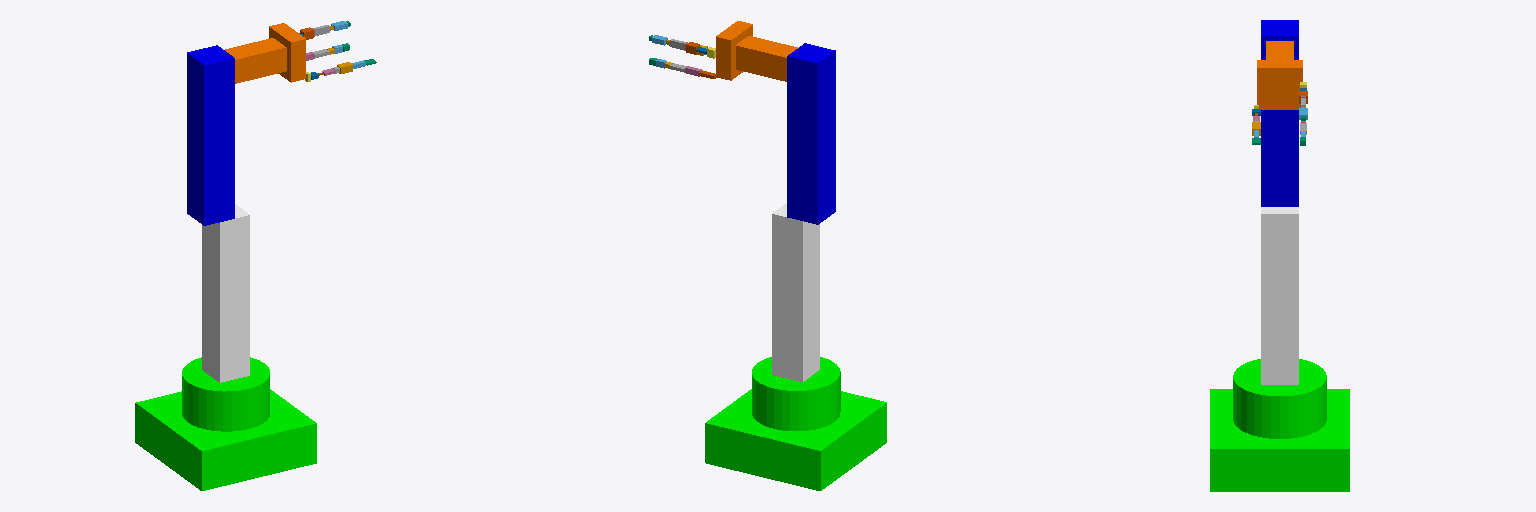
robot.urdf — robot:
<?xml version='1.0' encoding='utf-8'?>
<robot name="robot">
  <link name="base_link">
    <visual>
      <origin xyz="0 0 0.125" rpy="0 0 0" />
      <geometry>
        <box size="0.75 0.75 0.25" />
      </geometry>
      <material name="green" />
    </visual>
    <visual>
      <origin xyz="0 0 0.375" rpy="0 0 0" />
      <geometry>
        <cylinder length="0.25" radius="0.25" />
      </geometry>
      <material name="green">
        <color rgba="0 1 0 1" />
      </material>
    </visual>
    <collision>
      <geometry>
        <box size="0.75 0.75 0.5" />
      </geometry>
    </collision>
    <inertial>
      <mass value="0.5" />
      <inertia ixx="0.034" ixy="0.0" ixz="0.0" iyy="0.034" iyz="0.0" izz="0.034" />
    </inertial>
  </link>
  <link name="support_link">
    <visual>
      <origin xyz="0 0 0.5" rpy="0 0 0" />
      <geometry>
        <box size="0.2 0.2 1" />
      </geometry>
      <material name="white">
        <color rgba="1 1 1 1" />
      </material>
    </visual>
    <collision>
      <geometry>
        <box size="0.2 0.2 1" />
      </geometry>
    </collision>
    <inertial>
      <mass value="0.1" />
      <inertia ixx="0.01" ixy="0.0" ixz="0.0" iyy="0.01" iyz="0.0" izz="0.01" />
    </inertial>
  </link>
  <joint name="support_joint" type="continuous">
    <origin xyz="0 0 0.5" rpy="0 0 0" />
    <parent link="base_link" />
    <child link="support_link" />
    <axis xyz="0 0 1" />
  </joint>
  <link name="arm_link">
    <visual>
      <origin xyz="0 0 0.5" rpy="0 0 0" />
      <geometry>
        <box size="0.2 0.2 1" />
      </geometry>
      <material name="blue">
        <color rgba="0 0 1 1" />
      </material>
    </visual>
    <collision>
      <geometry>
        <box size="0.2 0.2 1" />
      </geometry>
    </collision>
    <inertial>
      <mass value="0.1" />
      <inertia ixx="0.01" ixy="0.0" ixz="0.0" iyy="0.01" iyz="0.0" izz="0.01" />
    </inertial>
  </link>
  <joint name="arm_joint" type="revolute">
    <origin xyz="-0.1 0 1" rpy="0 0 0" />
    <parent link="support_link" />
    <child link="arm_link" />
    <axis xyz="0 1 0" />
    <limit lower="-3.14" upper="3.14" effort="1.0" velocity="1.0" />
  </joint>
  <link name="wrist_link">
    <visual>
      <origin xyz="0 0 0.25" rpy="0 0 0" />
      <geometry>
        <box size="0.15 0.15 0.5" />
      </geometry>
      <material name="orange">
        <color rgba="1 0.5 0 1" />
      </material>
    </visual>
    <collision>
      <geometry>
        <box size="0.15 0.15 0.5" />
      </geometry>
    </collision>
    <inertial>
      <mass value="0.1" />
      <inertia ixx="0.01" ixy="0.0" ixz="0.0" iyy="0.01" iyz="0.0" izz="0.01" />
    </inertial>
  </link>
  <joint name="wrist_joint" type="fixed">
    <origin xyz="0 0 0.9" rpy="0 1.571 0" />
    <parent link="arm_link" />
    <child link="wrist_link" />
  </joint>
  <link name="palm_link">
    <visual>
      <origin xyz="0 0 0.05" rpy="0 0 0" />
      <geometry>
        <box size="0.25 0.25 0.1" />
      </geometry>
      <material name="orange" />
    </visual>
    <collision>
      <geometry>
        <box size="0.25 0.25 0.1" />
      </geometry>
    </collision>
    <inertial>
      <mass value="0.1" />
      <inertia ixx="0.01" ixy="0.0" ixz="0.0" iyy="0.01" iyz="0.0" izz="0.01" />
    </inertial>
  </link>
  <joint name="palm_joint" type="fixed">
    <origin xyz="0 0 0.45" rpy="0 0 0" />
    <parent link="wrist_link" />
    <child link="palm_link" />
  </joint>
  <link name="finger_link_0_0">
    <visual>
      <origin xyz="0 0 0.048" rpy="0 0 0" />
      <geometry>
        <box size="0.021 0.034 0.096" />
      </geometry>
    </visual>
    <collision>
      <geometry>
        <box size="0.021 0.034 0.096" />
      </geometry>
    </collision>
    <inertial>
      <mass value="0.021" />
      <inertia ixx="0.0" iyy="0.0" izz="0.0" ixy="0" ixz="0" iyz="0" />
    </inertial>
  </link>
  <joint name="finger_joint_palm_link_to_finger_link_0_0" type="revolute">
    <origin xyz="0.123 0.125 0.1" rpy="0 0 0" />
    <parent link="palm_link" />
    <child link="finger_link_0_0" />
    <axis xyz="-1.0 0.0 0.0" />
    <limit lower="-3.142" upper="3.142" effort="10" velocity="10" />
  </joint>
  <link name="finger_link_0_1">
    <visual>
      <origin xyz="0 0 0.0465" rpy="0 0 0" />
      <geometry>
        <box size="0.034 0.03 0.093" />
      </geometry>
    </visual>
    <collision>
      <geometry>
        <box size="0.034 0.03 0.093" />
      </geometry>
    </collision>
    <inertial>
      <mass value="0.028" />
      <inertia ixx="0.0" iyy="0.0" izz="0.0" ixy="0" ixz="0" iyz="0" />
    </inertial>
  </link>
  <joint name="finger_joint_finger_link_0_0_to_finger_link_0_1" type="revolute">
    <origin xyz="0.0 0.0 0.096" rpy="0 0 0" />
    <parent link="finger_link_0_0" />
    <child link="finger_link_0_1" />
    <axis xyz="0.0 1.0 0.0" />
    <limit lower="-3.142" upper="3.142" effort="10" velocity="10" />
  </joint>
  <link name="finger_link_0_2">
    <visual>
      <origin xyz="0 0 0.0485" rpy="0 0 0" />
      <geometry>
        <box size="0.021 0.041 0.097" />
      </geometry>
    </visual>
    <collision>
      <geometry>
        <box size="0.021 0.041 0.097" />
      </geometry>
    </collision>
    <inertial>
      <mass value="0.025" />
      <inertia ixx="0.0" iyy="0.0" izz="0.0" ixy="0" ixz="0" iyz="0" />
    </inertial>
  </link>
  <joint name="finger_joint_finger_link_0_1_to_finger_link_0_2" type="revolute">
    <origin xyz="0.0 0.0 0.093" rpy="0 0 0" />
    <parent link="finger_link_0_1" />
    <child link="finger_link_0_2" />
    <axis xyz="0.0 1.0 0.0" />
    <limit lower="-3.142" upper="3.142" effort="10" velocity="10" />
  </joint>
  <link name="finger_link_0_3">
    <visual>
      <origin xyz="0 0 0.018" rpy="0 0 0" />
      <geometry>
        <box size="0.025 0.031 0.036" />
      </geometry>
    </visual>
    <collision>
      <geometry>
        <box size="0.025 0.031 0.036" />
      </geometry>
    </collision>
    <inertial>
      <mass value="0.008" />
      <inertia ixx="0.0" iyy="0.0" izz="0.0" ixy="0" ixz="0" iyz="0" />
    </inertial>
  </link>
  <joint name="finger_joint_finger_link_0_2_to_finger_link_0_3" type="revolute">
    <origin xyz="0.0 0.0 0.097" rpy="0 0 0" />
    <parent link="finger_link_0_2" />
    <child link="finger_link_0_3" />
    <axis xyz="0.0 1.0 0.0" />
    <limit lower="-3.142" upper="3.142" effort="10" velocity="10" />
  </joint>
  <link name="finger_link_0_4">
    <visual>
      <origin xyz="0 0 0.028" rpy="0 0 0" />
      <geometry>
        <box size="0.037 0.029 0.056" />
      </geometry>
    </visual>
    <collision>
      <geometry>
        <box size="0.037 0.029 0.056" />
      </geometry>
    </collision>
    <inertial>
      <mass value="0.018" />
      <inertia ixx="0.0" iyy="0.0" izz="0.0" ixy="0" ixz="0" iyz="0" />
    </inertial>
  </link>
  <joint name="finger_joint_finger_link_0_3_to_finger_link_0_4" type="revolute">
    <origin xyz="0.0 0.0 0.036" rpy="0 0 0" />
    <parent link="finger_link_0_3" />
    <child link="finger_link_0_4" />
    <axis xyz="1.0 0.0 0.0" />
    <limit lower="-3.142" upper="3.142" effort="10" velocity="10" />
  </joint>
  <link name="finger_link_0_5">
    <visual>
      <origin xyz="0 0 0.022" rpy="0 0 0" />
      <geometry>
        <box size="0.031 0.032 0.044" />
      </geometry>
    </visual>
    <collision>
      <geometry>
        <box size="0.031 0.032 0.044" />
      </geometry>
    </collision>
    <inertial>
      <mass value="0.013" />
      <inertia ixx="0.0" iyy="0.0" izz="0.0" ixy="0" ixz="0" iyz="0" />
    </inertial>
  </link>
  <joint name="finger_joint_finger_link_0_4_to_finger_link_0_5" type="revolute">
    <origin xyz="0.0 0.0 0.056" rpy="0 0 0" />
    <parent link="finger_link_0_4" />
    <child link="finger_link_0_5" />
    <axis xyz="1.0 0.0 0.0" />
    <limit lower="-3.142" upper="3.142" effort="10" velocity="10" />
  </joint>
  <link name="finger_link_1_0">
    <visual>
      <origin xyz="0 0 0.0235" rpy="0 0 0" />
      <geometry>
        <box size="0.049 0.033 0.047" />
      </geometry>
    </visual>
    <collision>
      <geometry>
        <box size="0.049 0.033 0.047" />
      </geometry>
    </collision>
    <inertial>
      <mass value="0.023" />
      <inertia ixx="0.0" iyy="0.0" izz="0.0" ixy="0" ixz="0" iyz="0" />
    </inertial>
  </link>
  <joint name="finger_joint_palm_link_to_finger_link_1_0" type="revolute">
    <origin xyz="-0.02 0.125 0.1" rpy="0 0 0" />
    <parent link="palm_link" />
    <child link="finger_link_1_0" />
    <axis xyz="-1.0 0.0 0.0" />
    <limit lower="-3.142" upper="3.142" effort="10" velocity="10" />
  </joint>
  <link name="finger_link_1_1">
    <visual>
      <origin xyz="0 0 0.0345" rpy="0 0 0" />
      <geometry>
        <box size="0.014 0.042 0.069" />
      </geometry>
    </visual>
    <collision>
      <geometry>
        <box size="0.014 0.042 0.069" />
      </geometry>
    </collision>
    <inertial>
      <mass value="0.012" />
      <inertia ixx="0.0" iyy="0.0" izz="0.0" ixy="0" ixz="0" iyz="0" />
    </inertial>
  </link>
  <joint name="finger_joint_finger_link_1_0_to_finger_link_1_1" type="revolute">
    <origin xyz="0.0 0.0 0.047" rpy="0 0 0" />
    <parent link="finger_link_1_0" />
    <child link="finger_link_1_1" />
    <axis xyz="1.0 0.0 0.0" />
    <limit lower="-3.142" upper="3.142" effort="10" velocity="10" />
  </joint>
  <link name="finger_link_1_2">
    <visual>
      <origin xyz="0 0 0.032" rpy="0 0 0" />
      <geometry>
        <box size="0.048 0.049 0.064" />
      </geometry>
    </visual>
    <collision>
      <geometry>
        <box size="0.048 0.049 0.064" />
      </geometry>
    </collision>
    <inertial>
      <mass value="0.045" />
      <inertia ixx="0.0" iyy="0.0" izz="0.0" ixy="0" ixz="0" iyz="0" />
    </inertial>
  </link>
  <joint name="finger_joint_finger_link_1_1_to_finger_link_1_2" type="revolute">
    <origin xyz="0.0 0.0 0.069" rpy="0 0 0" />
    <parent link="finger_link_1_1" />
    <child link="finger_link_1_2" />
    <axis xyz="0.0 1.0 0.0" />
    <limit lower="-3.142" upper="3.142" effort="10" velocity="10" />
  </joint>
  <link name="finger_link_1_3">
    <visual>
      <origin xyz="0 0 0.007" rpy="0 0 0" />
      <geometry>
        <box size="0.045 0.022 0.014" />
      </geometry>
    </visual>
    <collision>
      <geometry>
        <box size="0.045 0.022 0.014" />
      </geometry>
    </collision>
    <inertial>
      <mass value="0.004" />
      <inertia ixx="0.0" iyy="0.0" izz="0.0" ixy="0" ixz="0" iyz="0" />
    </inertial>
  </link>
  <joint name="finger_joint_finger_link_1_2_to_finger_link_1_3" type="revolute">
    <origin xyz="0.0 0.0 0.064" rpy="0 0 0" />
    <parent link="finger_link_1_2" />
    <child link="finger_link_1_3" />
    <axis xyz="0.0 1.0 0.0" />
    <limit lower="-3.142" upper="3.142" effort="10" velocity="10" />
  </joint>
  <link name="finger_link_1_4">
    <visual>
      <origin xyz="0 0 0.0475" rpy="0 0 0" />
      <geometry>
        <box size="0.042 0.023 0.095" />
      </geometry>
    </visual>
    <collision>
      <geometry>
        <box size="0.042 0.023 0.095" />
      </geometry>
    </collision>
    <inertial>
      <mass value="0.028" />
      <inertia ixx="0.0" iyy="0.0" izz="0.0" ixy="0" ixz="0" iyz="0" />
    </inertial>
  </link>
  <joint name="finger_joint_finger_link_1_3_to_finger_link_1_4" type="revolute">
    <origin xyz="0.0 0.0 0.014" rpy="0 0 0" />
    <parent link="finger_link_1_3" />
    <child link="finger_link_1_4" />
    <axis xyz="0.0 1.0 0.0" />
    <limit lower="-3.142" upper="3.142" effort="10" velocity="10" />
  </joint>
  <link name="finger_link_1_5">
    <visual>
      <origin xyz="0 0 0.015" rpy="0 0 0" />
      <geometry>
        <box size="0.023 0.014 0.03" />
      </geometry>
    </visual>
    <collision>
      <geometry>
        <box size="0.023 0.014 0.03" />
      </geometry>
    </collision>
    <inertial>
      <mass value="0.003" />
      <inertia ixx="0.0" iyy="0.0" izz="0.0" ixy="0" ixz="0" iyz="0" />
    </inertial>
  </link>
  <joint name="finger_joint_finger_link_1_4_to_finger_link_1_5" type="revolute">
    <origin xyz="0.0 0.0 0.095" rpy="0 0 0" />
    <parent link="finger_link_1_4" />
    <child link="finger_link_1_5" />
    <axis xyz="1.0 0.0 0.0" />
    <limit lower="-3.142" upper="3.142" effort="10" velocity="10" />
  </joint>
  <link name="finger_link_1_6">
    <visual>
      <origin xyz="0 0 0.042" rpy="0 0 0" />
      <geometry>
        <box size="0.031 0.045 0.084" />
      </geometry>
    </visual>
    <collision>
      <geometry>
        <box size="0.031 0.045 0.084" />
      </geometry>
    </collision>
    <inertial>
      <mass value="0.035" />
      <inertia ixx="0.0" iyy="0.0" izz="0.0" ixy="0" ixz="0" iyz="0" />
    </inertial>
  </link>
  <joint name="finger_joint_finger_link_1_5_to_finger_link_1_6" type="revolute">
    <origin xyz="0.0 0.0 0.03" rpy="0 0 0" />
    <parent link="finger_link_1_5" />
    <child link="finger_link_1_6" />
    <axis xyz="1.0 0.0 0.0" />
    <limit lower="-3.142" upper="3.142" effort="10" velocity="10" />
  </joint>
  <link name="finger_link_1_7">
    <visual>
      <origin xyz="0 0 0.0115" rpy="0 0 0" />
      <geometry>
        <box size="0.021 0.03 0.023" />
      </geometry>
    </visual>
    <collision>
      <geometry>
        <box size="0.021 0.03 0.023" />
      </geometry>
    </collision>
    <inertial>
      <mass value="0.004" />
      <inertia ixx="0.0" iyy="0.0" izz="0.0" ixy="0" ixz="0" iyz="0" />
    </inertial>
  </link>
  <joint name="finger_joint_finger_link_1_6_to_finger_link_1_7" type="revolute">
    <origin xyz="0.0 0.0 0.084" rpy="0 0 0" />
    <parent link="finger_link_1_6" />
    <child link="finger_link_1_7" />
    <axis xyz="1.0 0.0 0.0" />
    <limit lower="-3.142" upper="3.142" effort="10" velocity="10" />
  </joint>
  <link name="finger_link_2_0">
    <visual>
      <origin xyz="0 0 0.011" rpy="0 0 0" />
      <geometry>
        <box size="0.049 0.028 0.022" />
      </geometry>
    </visual>
    <collision>
      <geometry>
        <box size="0.049 0.028 0.022" />
      </geometry>
    </collision>
    <inertial>
      <mass value="0.009" />
      <inertia ixx="0.0" iyy="0.0" izz="0.0" ixy="0" ixz="0" iyz="0" />
    </inertial>
  </link>
  <joint name="finger_joint_palm_link_to_finger_link_2_0" type="revolute">
    <origin xyz="0.116 -0.125 0.1" rpy="0 0 0" />
    <parent link="palm_link" />
    <child link="finger_link_2_0" />
    <axis xyz="1.0 0.0 0.0" />
    <limit lower="-3.142" upper="3.142" effort="10" velocity="10" />
  </joint>
  <link name="finger_link_2_1">
    <visual>
      <origin xyz="0 0 0.0235" rpy="0 0 0" />
      <geometry>
        <box size="0.022 0.048 0.047" />
      </geometry>
    </visual>
    <collision>
      <geometry>
        <box size="0.022 0.048 0.047" />
      </geometry>
    </collision>
    <inertial>
      <mass value="0.015" />
      <inertia ixx="0.0" iyy="0.0" izz="0.0" ixy="0" ixz="0" iyz="0" />
    </inertial>
  </link>
  <joint name="finger_joint_finger_link_2_0_to_finger_link_2_1" type="revolute">
    <origin xyz="0.0 0.0 0.022" rpy="0 0 0" />
    <parent link="finger_link_2_0" />
    <child link="finger_link_2_1" />
    <axis xyz="1.0 0.0 0.0" />
    <limit lower="-3.142" upper="3.142" effort="10" velocity="10" />
  </joint>
  <link name="finger_link_2_2">
    <visual>
      <origin xyz="0 0 0.0205" rpy="0 0 0" />
      <geometry>
        <box size="0.011 0.011 0.041" />
      </geometry>
    </visual>
    <collision>
      <geometry>
        <box size="0.011 0.011 0.041" />
      </geometry>
    </collision>
    <inertial>
      <mass value="0.001" />
      <inertia ixx="0.0" iyy="0.0" izz="0.0" ixy="0" ixz="0" iyz="0" />
    </inertial>
  </link>
  <joint name="finger_joint_finger_link_2_1_to_finger_link_2_2" type="revolute">
    <origin xyz="0.0 0.0 0.047" rpy="0 0 0" />
    <parent link="finger_link_2_1" />
    <child link="finger_link_2_2" />
    <axis xyz="0.0 1.0 0.0" />
    <limit lower="-3.142" upper="3.142" effort="10" velocity="10" />
  </joint>
  <link name="finger_link_2_3">
    <visual>
      <origin xyz="0 0 0.035" rpy="0 0 0" />
      <geometry>
        <box size="0.016 0.039 0.07" />
      </geometry>
    </visual>
    <collision>
      <geometry>
        <box size="0.016 0.039 0.07" />
      </geometry>
    </collision>
    <inertial>
      <mass value="0.013" />
      <inertia ixx="0.0" iyy="0.0" izz="0.0" ixy="0" ixz="0" iyz="0" />
    </inertial>
  </link>
  <joint name="finger_joint_finger_link_2_2_to_finger_link_2_3" type="revolute">
    <origin xyz="0.0 0.0 0.041" rpy="0 0 0" />
    <parent link="finger_link_2_2" />
    <child link="finger_link_2_3" />
    <axis xyz="1.0 0.0 0.0" />
    <limit lower="-3.142" upper="3.142" effort="10" velocity="10" />
  </joint>
  <link name="finger_link_2_4">
    <visual>
      <origin xyz="0 0 0.0155" rpy="0 0 0" />
      <geometry>
        <box size="0.027 0.028 0.031" />
      </geometry>
    </visual>
    <collision>
      <geometry>
        <box size="0.027 0.028 0.031" />
      </geometry>
    </collision>
    <inertial>
      <mass value="0.007" />
      <inertia ixx="0.0" iyy="0.0" izz="0.0" ixy="0" ixz="0" iyz="0" />
    </inertial>
  </link>
  <joint name="finger_joint_finger_link_2_3_to_finger_link_2_4" type="revolute">
    <origin xyz="0.0 0.0 0.07" rpy="0 0 0" />
    <parent link="finger_link_2_3" />
    <child link="finger_link_2_4" />
    <axis xyz="1.0 0.0 0.0" />
    <limit lower="-3.142" upper="3.142" effort="10" velocity="10" />
  </joint>
  <link name="finger_link_2_5">
    <visual>
      <origin xyz="0 0 0.041" rpy="0 0 0" />
      <geometry>
        <box size="0.042 0.048 0.082" />
      </geometry>
    </visual>
    <collision>
      <geometry>
        <box size="0.042 0.048 0.082" />
      </geometry>
    </collision>
    <inertial>
      <mass value="0.05" />
      <inertia ixx="0.0" iyy="0.0" izz="0.0" ixy="0" ixz="0" iyz="0" />
    </inertial>
  </link>
  <joint name="finger_joint_finger_link_2_4_to_finger_link_2_5" type="revolute">
    <origin xyz="0.0 0.0 0.031" rpy="0 0 0" />
    <parent link="finger_link_2_4" />
    <child link="finger_link_2_5" />
    <axis xyz="0.0 1.0 0.0" />
    <limit lower="-3.142" upper="3.142" effort="10" velocity="10" />
  </joint>
  <link name="finger_link_2_6">
    <visual>
      <origin xyz="0 0 0.0445" rpy="0 0 0" />
      <geometry>
        <box size="0.026 0.027 0.089" />
      </geometry>
    </visual>
    <collision>
      <geometry>
        <box size="0.026 0.027 0.089" />
      </geometry>
    </collision>
    <inertial>
      <mass value="0.019" />
      <inertia ixx="0.0" iyy="0.0" izz="0.0" ixy="0" ixz="0" iyz="0" />
    </inertial>
  </link>
  <joint name="finger_joint_finger_link_2_5_to_finger_link_2_6" type="revolute">
    <origin xyz="0.0 0.0 0.082" rpy="0 0 0" />
    <parent link="finger_link_2_5" />
    <child link="finger_link_2_6" />
    <axis xyz="1.0 0.0 0.0" />
    <limit lower="-3.142" upper="3.142" effort="10" velocity="10" />
  </joint>
  <link name="finger_link_2_7">
    <visual>
      <origin xyz="0 0 0.031" rpy="0 0 0" />
      <geometry>
        <box size="0.011 0.047 0.062" />
      </geometry>
    </visual>
    <collision>
      <geometry>
        <box size="0.011 0.047 0.062" />
      </geometry>
    </collision>
    <inertial>
      <mass value="0.01" />
      <inertia ixx="0.0" iyy="0.0" izz="0.0" ixy="0" ixz="0" iyz="0" />
    </inertial>
  </link>
  <joint name="finger_joint_finger_link_2_6_to_finger_link_2_7" type="revolute">
    <origin xyz="0.0 0.0 0.089" rpy="0 0 0" />
    <parent link="finger_link_2_6" />
    <child link="finger_link_2_7" />
    <axis xyz="0.0 1.0 0.0" />
    <limit lower="-3.142" upper="3.142" effort="10" velocity="10" />
  </joint>
</robot>

--- What the picture shows (computed from the rendered views, not written in the file) ---
3 views of the same robot in one strip: view 1: azimuth 30°, elevation 25°; view 2: azimuth 150°, elevation 25°; view 3: azimuth 270°, elevation 25° (orthographic).
Robot: robot — 27 links, 26 joints (23 revolute, 1 continuous, 2 fixed); root link base_link; default pose: every joint at zero.
Visible links, largest first — view 1: base_link, arm_link, support_link, wrist_link, palm_link; view 2: base_link, arm_link, support_link, wrist_link, palm_link; view 3: base_link, support_link, arm_link, palm_link, wrist_link.
Link boxes in pixels (left/top/right/bottom): base_link: left=135, top=357, right=316, bottom=490; arm_link: left=187, top=45, right=234, bottom=225; support_link: left=202, top=204, right=249, bottom=382; wrist_link: left=225, top=38, right=286, bottom=83; palm_link: left=269, top=23, right=305, bottom=82; base_link: left=705, top=357, right=886, bottom=490; arm_link: left=787, top=43, right=835, bottom=224; support_link: left=772, top=203, right=819, bottom=382; wrist_link: left=736, top=36, right=797, bottom=81; palm_link: left=716, top=21, right=752, bottom=80; base_link: left=1210, top=359, right=1349, bottom=491; support_link: left=1261, top=207, right=1298, bottom=384; arm_link: left=1261, top=20, right=1298, bottom=206; palm_link: left=1257, top=60, right=1302, bottom=109; wrist_link: left=1266, top=41, right=1293, bottom=59.
Bounding box of the posed robot: 1.27 × 0.75 × 2.52 m (x, y, z).
Geometry: primitives only (box / cylinder / sphere), no mesh files.